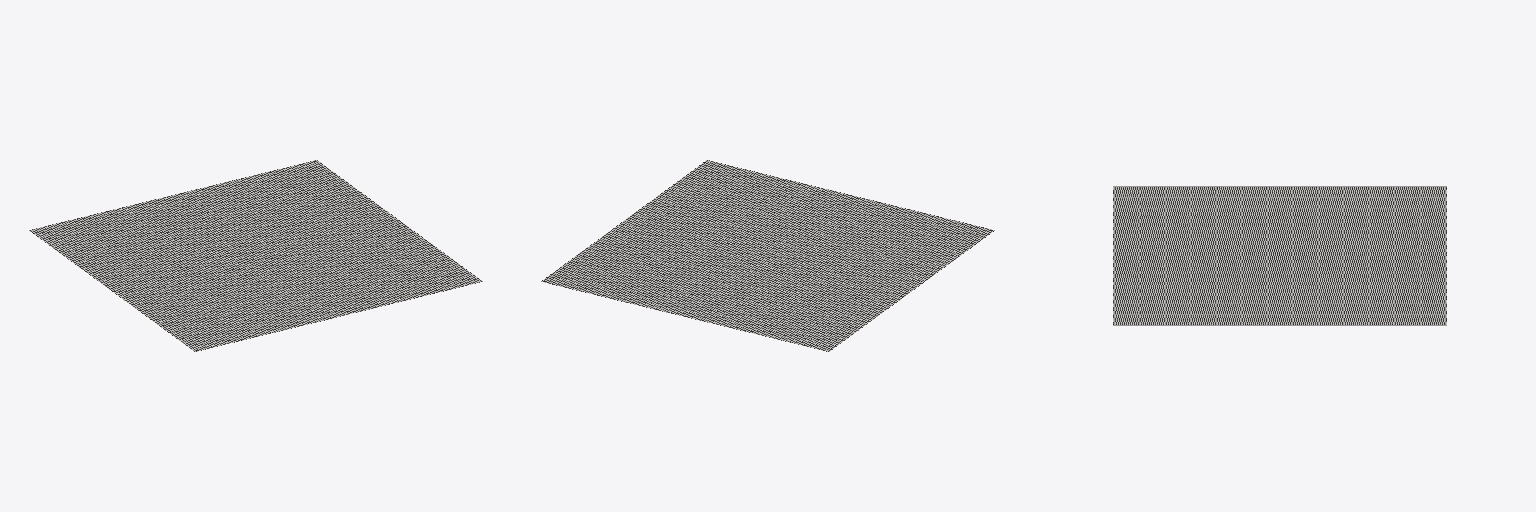
3 renders of one model, left to right at view 1: azimuth 30°, elevation 25°; view 2: azimuth 150°, elevation 25°; view 3: azimuth 270°, elevation 25°, orthographic.
Visible parts, largest first — view 1: Floor_Plane.000; view 2: Floor_Plane.000; view 3: Floor_Plane.000.
Part boxes in pixels (bbox=[...]): Floor_Plane.000: bbox=[29, 160, 482, 351]; Floor_Plane.000: bbox=[541, 160, 994, 351]; Floor_Plane.000: bbox=[1113, 186, 1446, 325].
Bounding box in the file's own units: 1000 × 0.0002 × 1000.
Materials: 1 (1 with a texture image).